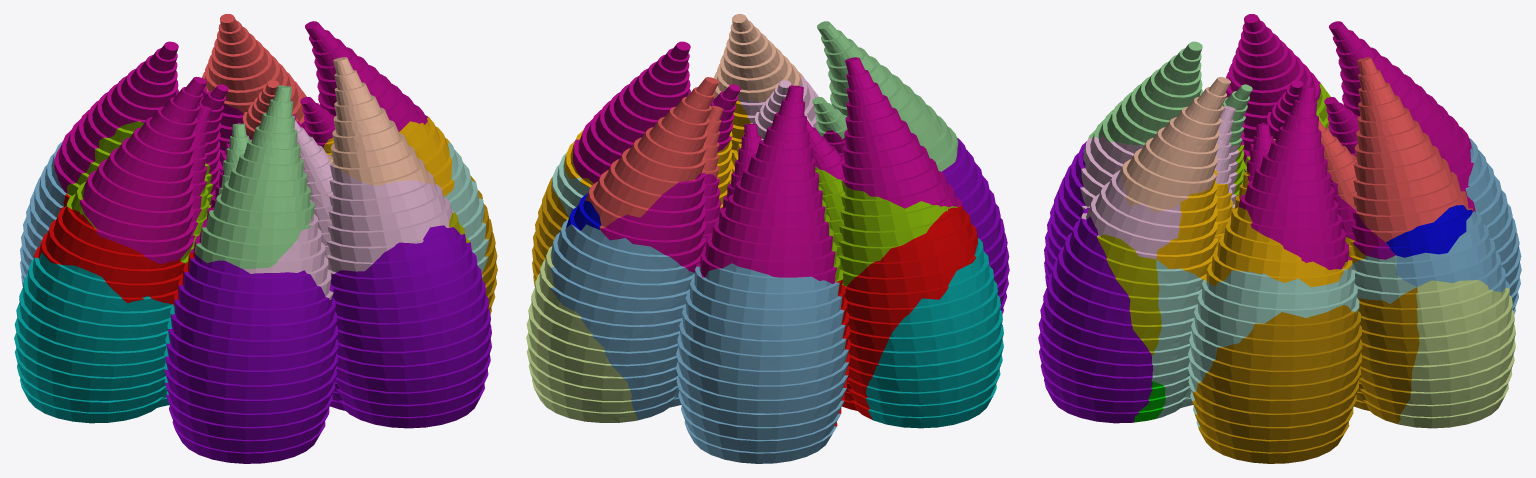
The model's file is fractured_66_20pcs.glb.
3 views of the same model, side by side, from view 1: azimuth 30°, elevation 25°; view 2: azimuth 150°, elevation 25°; view 3: azimuth 270°, elevation 25° (orthographic).
Parts seen in each view (by area): view 1: piece_8.obj, piece_3.obj, piece_6.obj, piece_9.obj, piece_5.obj, piece_15.obj, piece_11.obj, piece_17.obj, piece_2.obj, piece_1.obj, piece_10.obj, piece_12.obj (+3 smaller); view 2: piece_10.obj, piece_5.obj, piece_3.obj, piece_2.obj, piece_9.obj, piece_14.obj, piece_1.obj, piece_4.obj, piece_11.obj, piece_17.obj, piece_8.obj, piece_0.obj (+4 smaller); view 3: piece_7.obj, piece_5.obj, piece_6.obj, piece_12.obj, piece_14.obj, piece_1.obj, piece_0.obj, piece_10.obj, piece_17.obj, piece_15.obj, piece_11.obj, piece_9.obj (+5 smaller).
Part boxes in pixels (bbox=[...]): piece_8.obj: bbox=[164, 242, 421, 463]; piece_3.obj: bbox=[14, 252, 174, 423]; piece_6.obj: bbox=[358, 225, 491, 428]; piece_9.obj: bbox=[80, 76, 225, 263]; piece_5.obj: bbox=[54, 21, 428, 205]; piece_15.obj: bbox=[244, 120, 454, 299]; piece_11.obj: bbox=[194, 85, 314, 269]; piece_17.obj: bbox=[328, 57, 434, 185]; piece_2.obj: bbox=[33, 194, 194, 305]; piece_1.obj: bbox=[202, 14, 306, 138]; piece_10.obj: bbox=[20, 141, 66, 286]; piece_12.obj: bbox=[445, 142, 488, 278]; piece_10.obj: bbox=[551, 219, 849, 463]; piece_5.obj: bbox=[572, 41, 836, 283]; piece_3.obj: bbox=[865, 238, 1003, 428]; piece_2.obj: bbox=[834, 206, 977, 426]; piece_9.obj: bbox=[806, 57, 962, 208]; piece_14.obj: bbox=[526, 246, 637, 422]; piece_1.obj: bbox=[585, 77, 723, 229]; piece_4.obj: bbox=[815, 166, 957, 286]; piece_11.obj: bbox=[812, 21, 958, 171]; piece_17.obj: bbox=[714, 14, 802, 102]; piece_8.obj: bbox=[941, 138, 1009, 314]; piece_0.obj: bbox=[564, 96, 751, 208]; piece_7.obj: bbox=[1192, 287, 1419, 463]; piece_5.obj: bbox=[1238, 21, 1475, 269]; piece_6.obj: bbox=[1038, 216, 1153, 423]; piece_12.obj: bbox=[1151, 255, 1416, 427]; piece_14.obj: bbox=[1397, 280, 1515, 428]; piece_1.obj: bbox=[1318, 57, 1472, 242]; piece_0.obj: bbox=[1156, 170, 1365, 286]; piece_10.obj: bbox=[1396, 138, 1521, 314]; piece_17.obj: bbox=[1121, 77, 1230, 211]; piece_15.obj: bbox=[1080, 106, 1240, 259]; piece_11.obj: bbox=[1088, 41, 1252, 146]; piece_9.obj: bbox=[1226, 14, 1320, 162].
Bounding box in the file's own units: 1 × 0.6462 × 0.9207.
